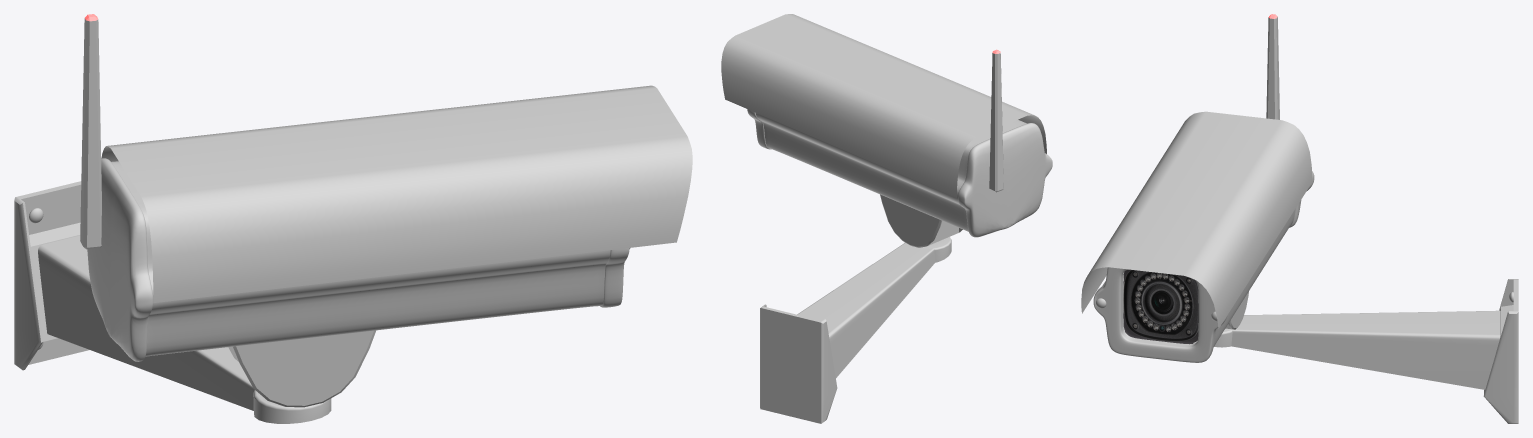
File: security_camera.glb
3 renders of one model, left to right at view 1: azimuth 30°, elevation 25°; view 2: azimuth 150°, elevation 25°; view 3: azimuth 270°, elevation 25°, orthographic. The views are drawn at different scales.
Visible parts, largest first — view 1: SecurityCamera, SecurityCameraBase; view 2: SecurityCamera, SecurityCameraBase; view 3: SecurityCamera, SecurityCameraBase.
Part boxes in pixels (x1,y1,x2,y2): SecurityCamera: [80, 14, 692, 407]; SecurityCameraBase: [14, 181, 331, 423]; SecurityCamera: [721, 14, 1052, 247]; SecurityCameraBase: [760, 237, 951, 423]; SecurityCamera: [1081, 14, 1314, 362]; SecurityCameraBase: [1214, 279, 1518, 423].
Bounding box in the file's own units: 10.17 × 9.37 × 10.89.
5 materials, 1 textured.
